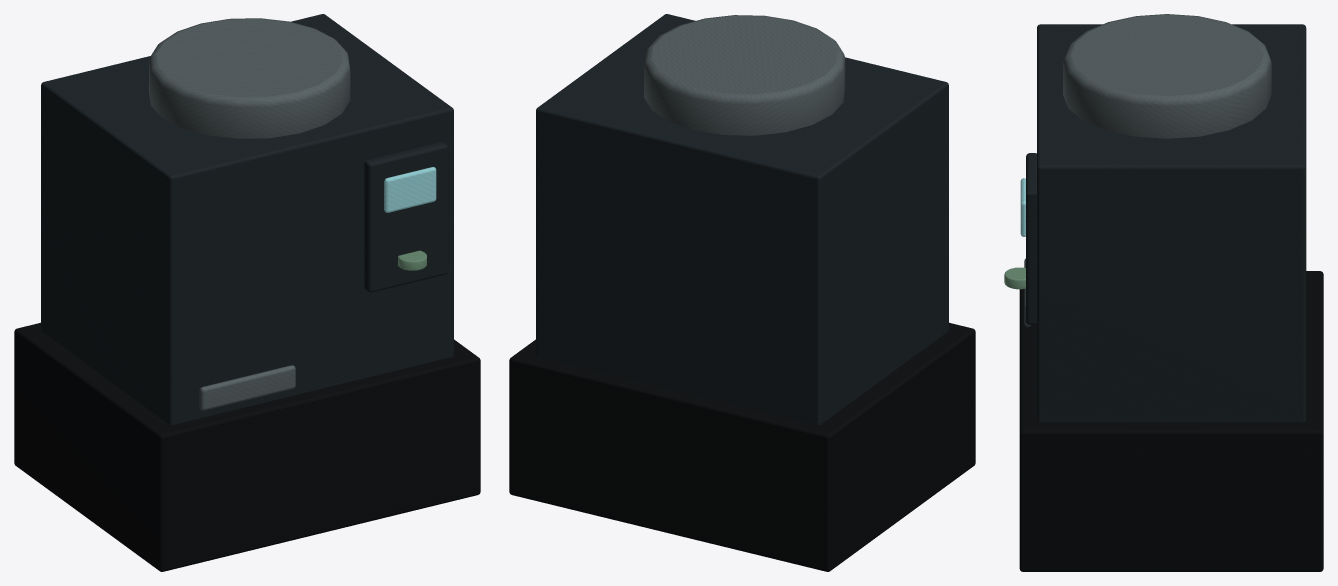
The model's file is LabCentrifuge.glb.
3 views of the same model, side by side, from view 1: azimuth 30°, elevation 25°; view 2: azimuth 150°, elevation 25°; view 3: azimuth 270°, elevation 25° (orthographic). The views are drawn at different scales.
Parts seen in each view (by area): view 1: LabCentrifuge_Mesh; view 2: LabCentrifuge_Mesh; view 3: LabCentrifuge_Mesh.
Boxes of the visible parts, x1,y1,x2,y2 form: LabCentrifuge_Mesh: (14, 14, 480, 571); LabCentrifuge_Mesh: (509, 14, 975, 571); LabCentrifuge_Mesh: (1004, 14, 1323, 571).
Size of the model in its own units: 0.88 by 1.11 by 0.735.
Materials: 5 (5 with a texture image).
